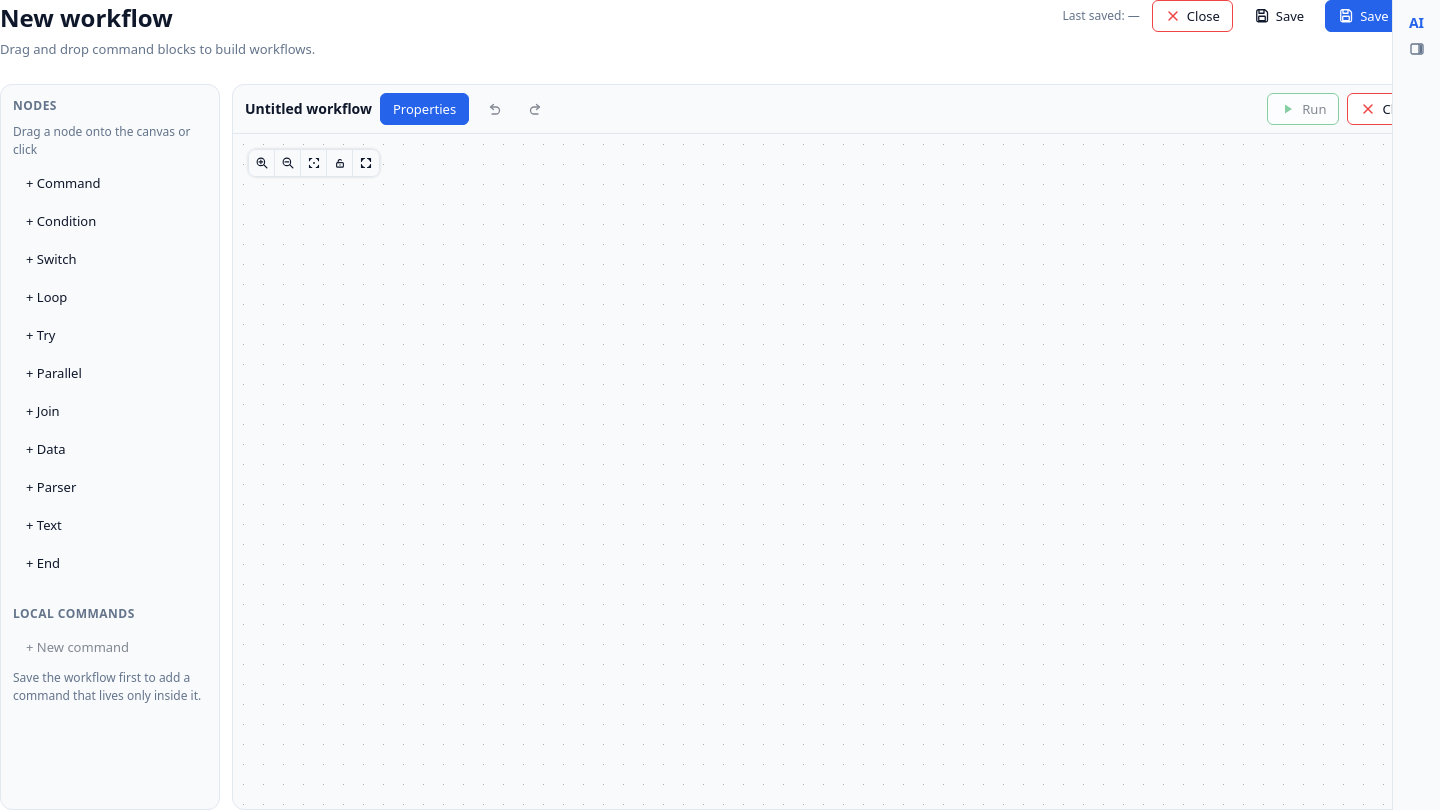
Editor shell › re-disables Run after clearing an unsaved workflow
Check: the button "Run" is disabled, box left=1267, top=92, right=1340, bottom=124
Add a step → Run enabled.
Click the button "+ Command": x=110, y=182 left=13, top=166, right=207, bottom=198
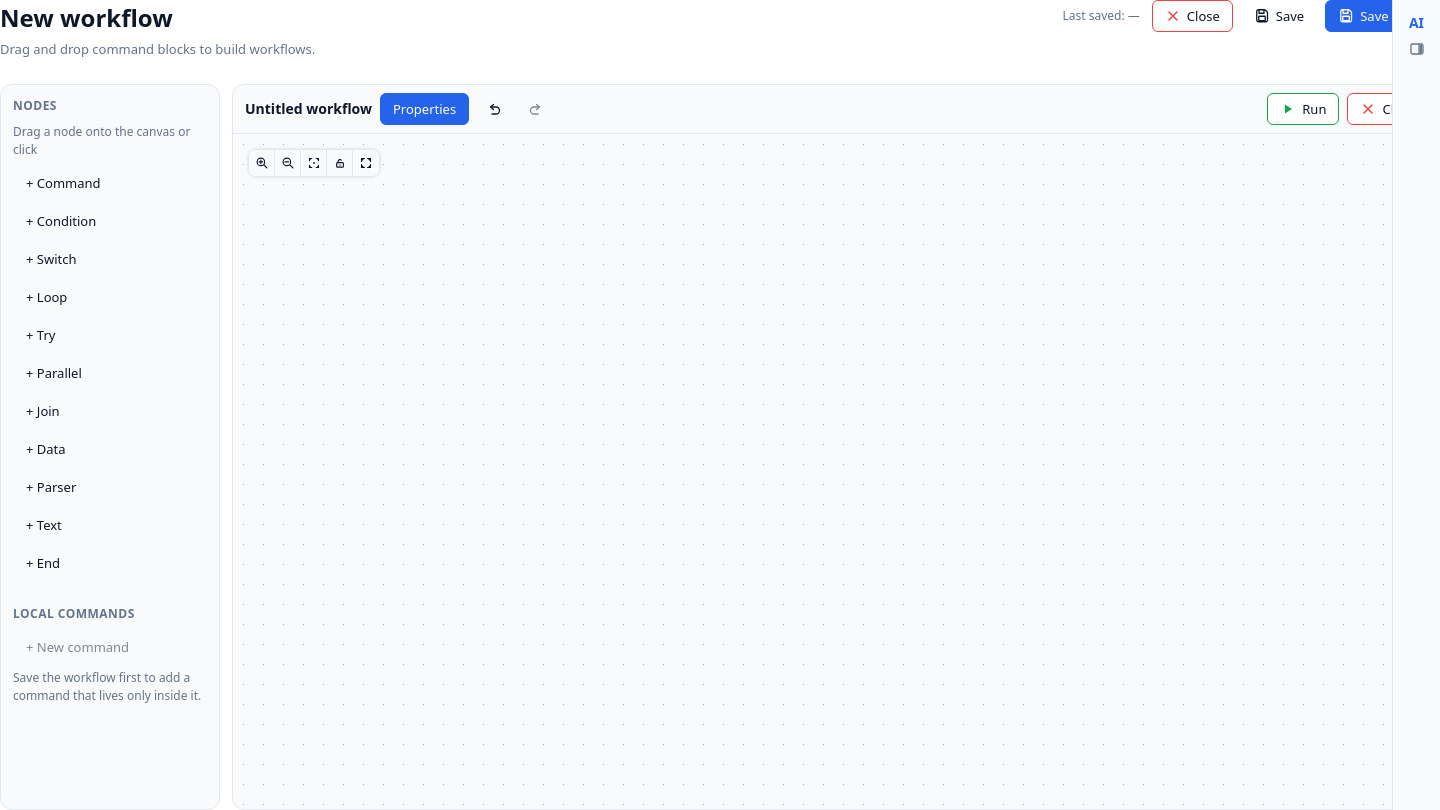
Check: the button "Run" is enabled, box left=1267, top=92, right=1340, bottom=124
Clear (confirm) → unsaved target resets to a fresh single-start graph.
Click the button "Clear": x=1387, y=108 left=1347, top=92, right=1427, bottom=124
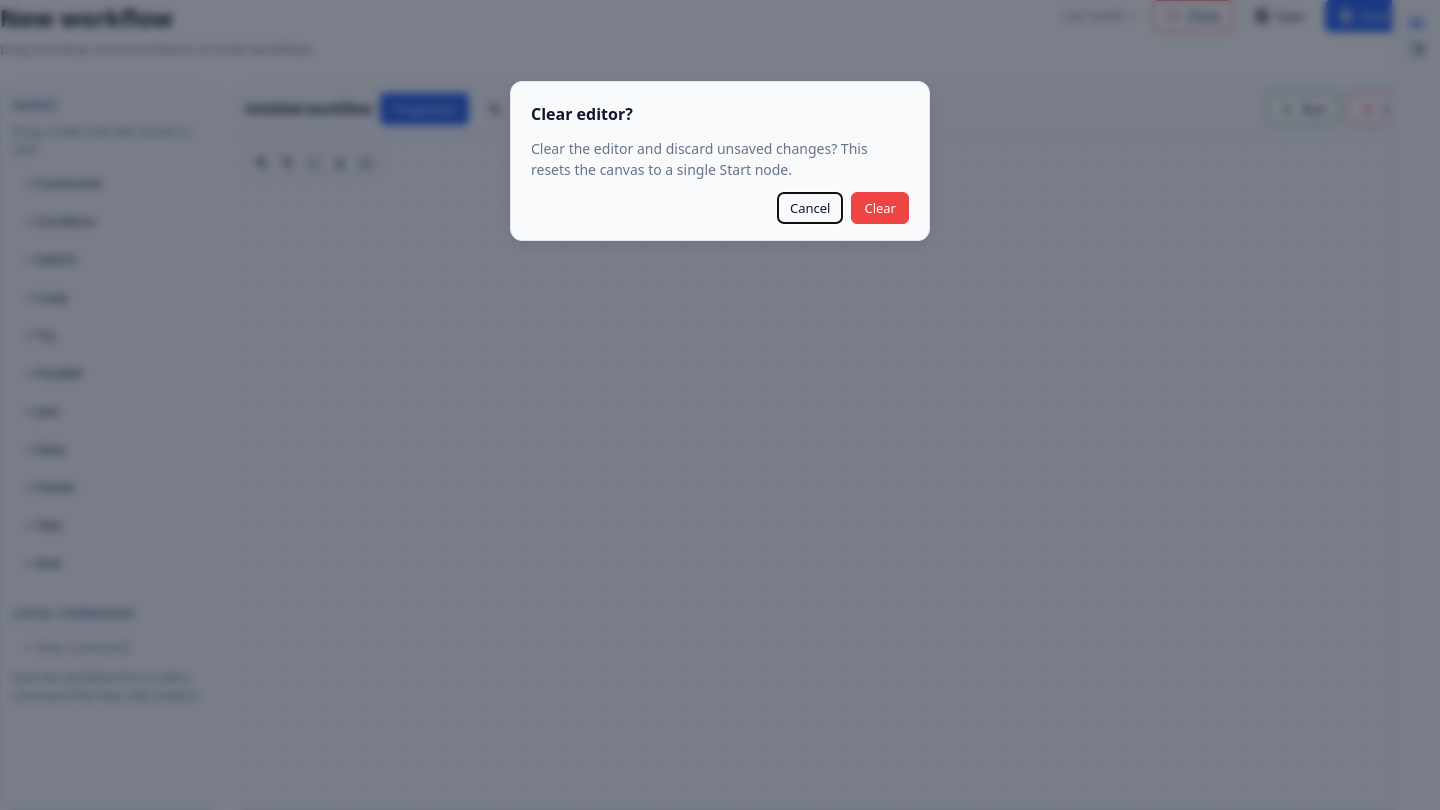
Click the button "Clear": x=880, y=208 left=851, top=192, right=909, bottom=224
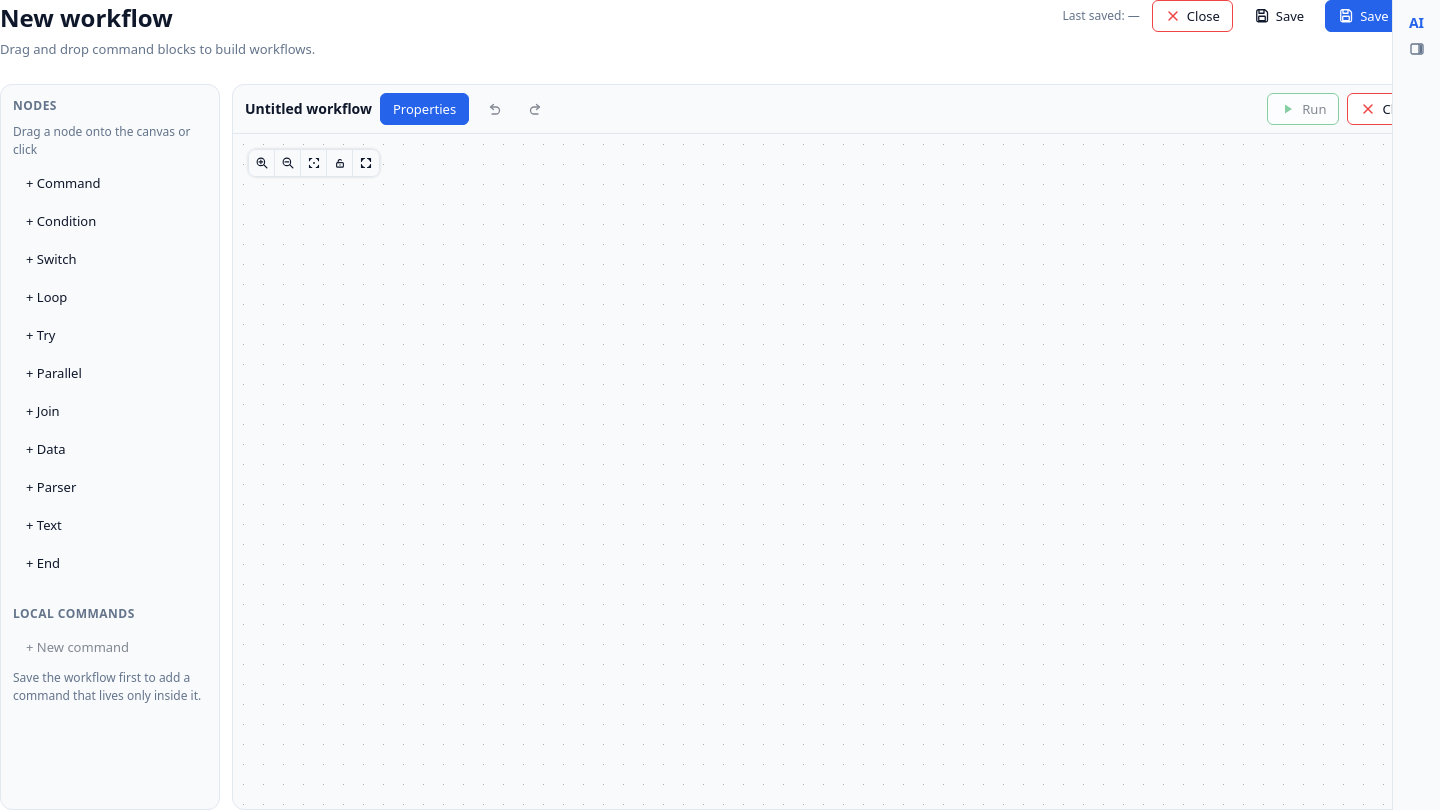
Check: the button "Run" is disabled, box left=1267, top=92, right=1340, bottom=124
